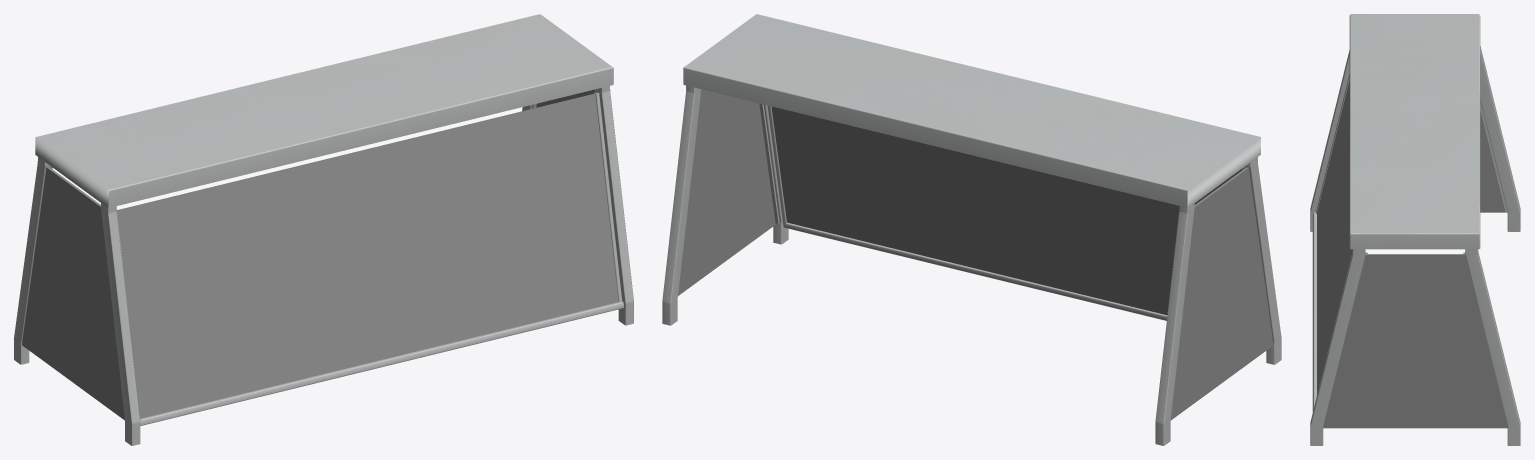
File: ServingLine_Hood.FBX
The picture shows the model from 3 angles, left to right: view 1: azimuth 30°, elevation 25°; view 2: azimuth 150°, elevation 25°; view 3: azimuth 270°, elevation 25°; orthographic projection. The views are drawn at different scales.
Parts seen in each view (by area): view 1: ServingLine_Hood; view 2: ServingLine_Hood; view 3: ServingLine_Hood.
Part boxes in pixels (x1,y1,x2,y2): ServingLine_Hood: (14, 14, 633, 445); ServingLine_Hood: (662, 14, 1281, 445); ServingLine_Hood: (1310, 14, 1520, 445).
Bounding box in the file's own units: 119 × 54 × 48.26.
2 materials, 1 textured.
